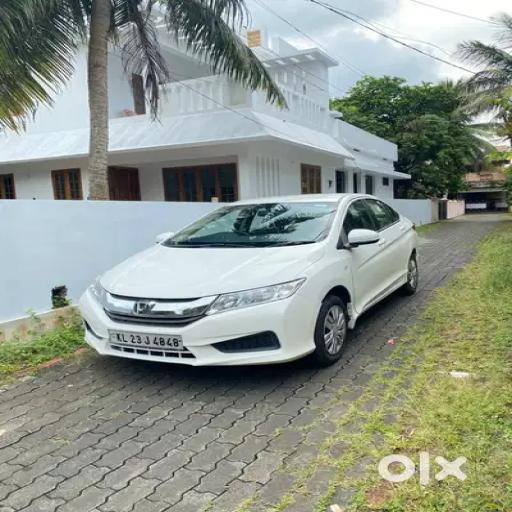License: (106, 330, 188, 351)
